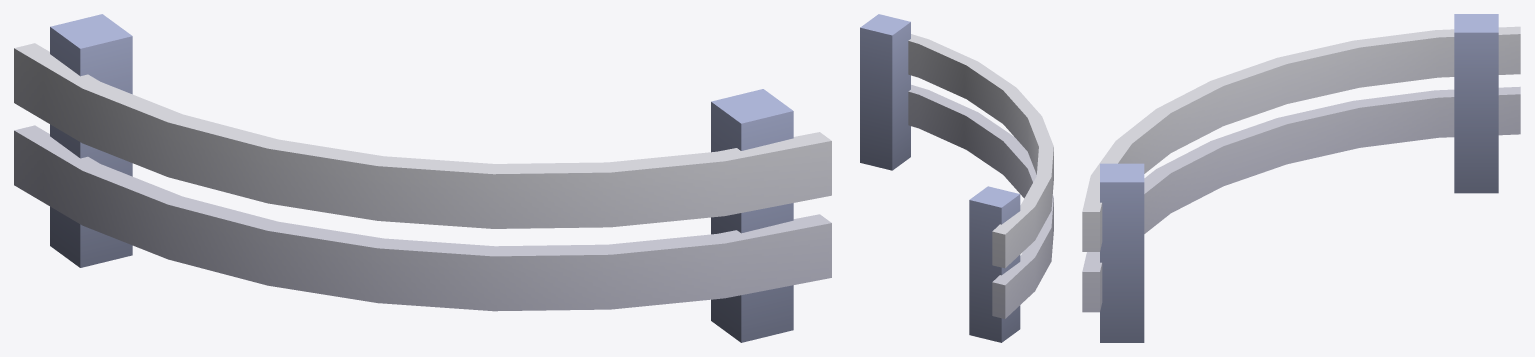
File: fence-corner-curved.glb
3 renders of one model, left to right at view 1: azimuth 30°, elevation 25°; view 2: azimuth 150°, elevation 25°; view 3: azimuth 270°, elevation 25°, orthographic. The views are drawn at different scales.
Parts seen in each view (by area): view 1: fence-corner-curved; view 2: fence-corner-curved; view 3: fence-corner-curved.
Part boxes in pixels (x1=…): fence-corner-curved: x1=14, y1=14, x2=831, y2=342; fence-corner-curved: x1=860, y1=14, x2=1053, y2=342; fence-corner-curved: x1=1082, y1=14, x2=1520, y2=342.
Bounding box in the file's own units: 0.99 × 0.4 × 0.99.
